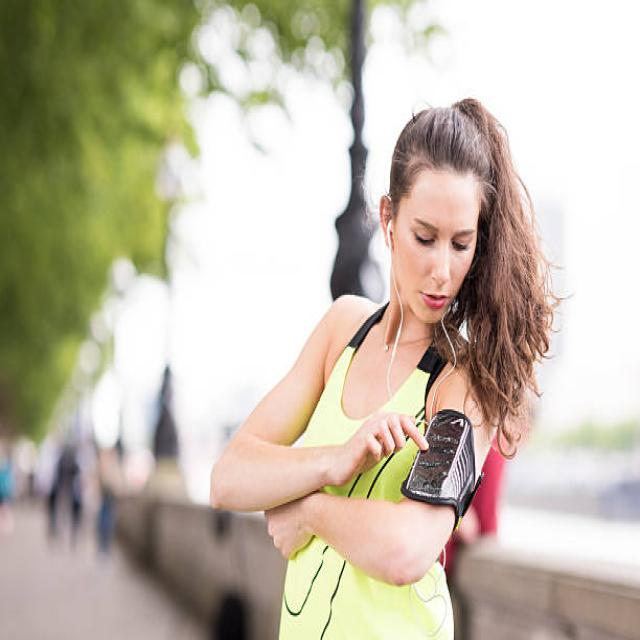Earphone: (386, 220, 457, 419)
